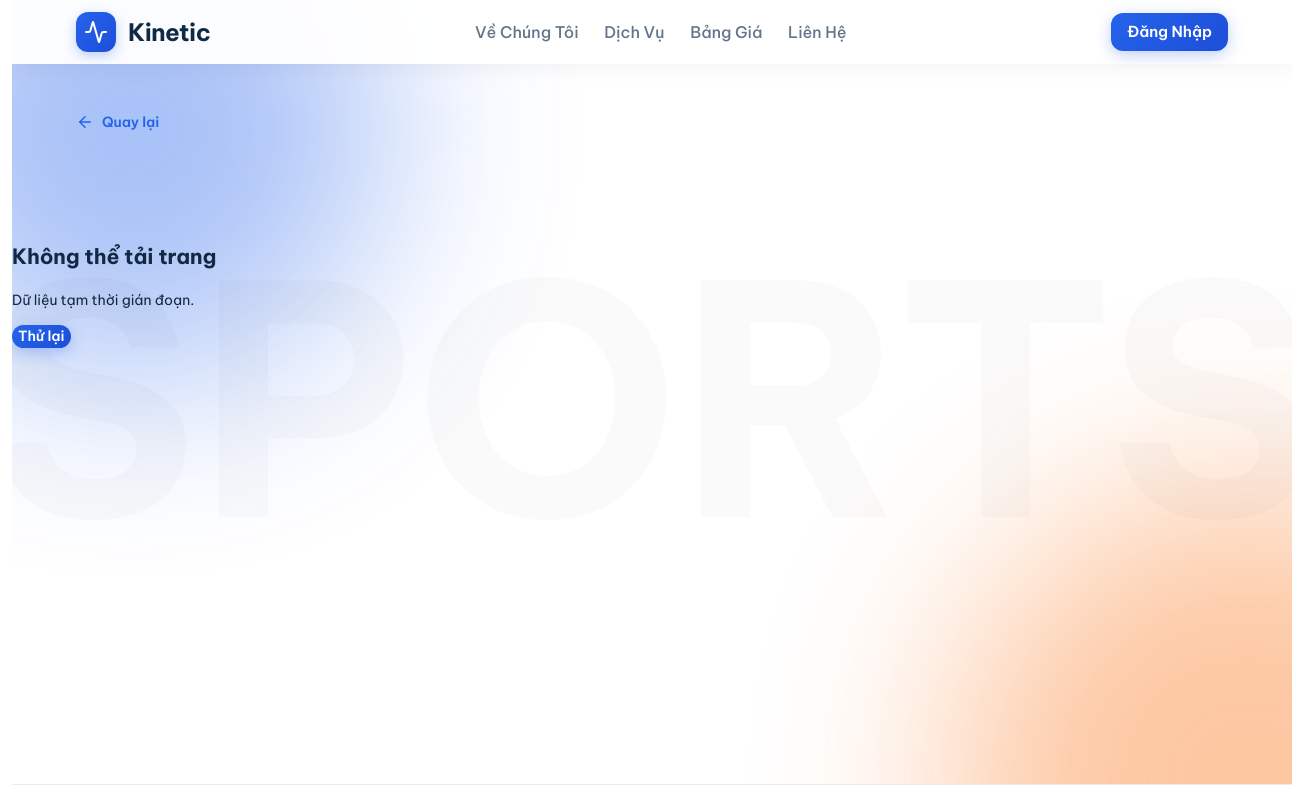
Test case: separate CMS public pages › shows a retryable error instead of 404 when the API is unavailable
Expected: the heading "Không thể tải trang" is shown, [12,243,216,270]
Click the button "Thử lại" at (41, 337), box [12,325,70,348]
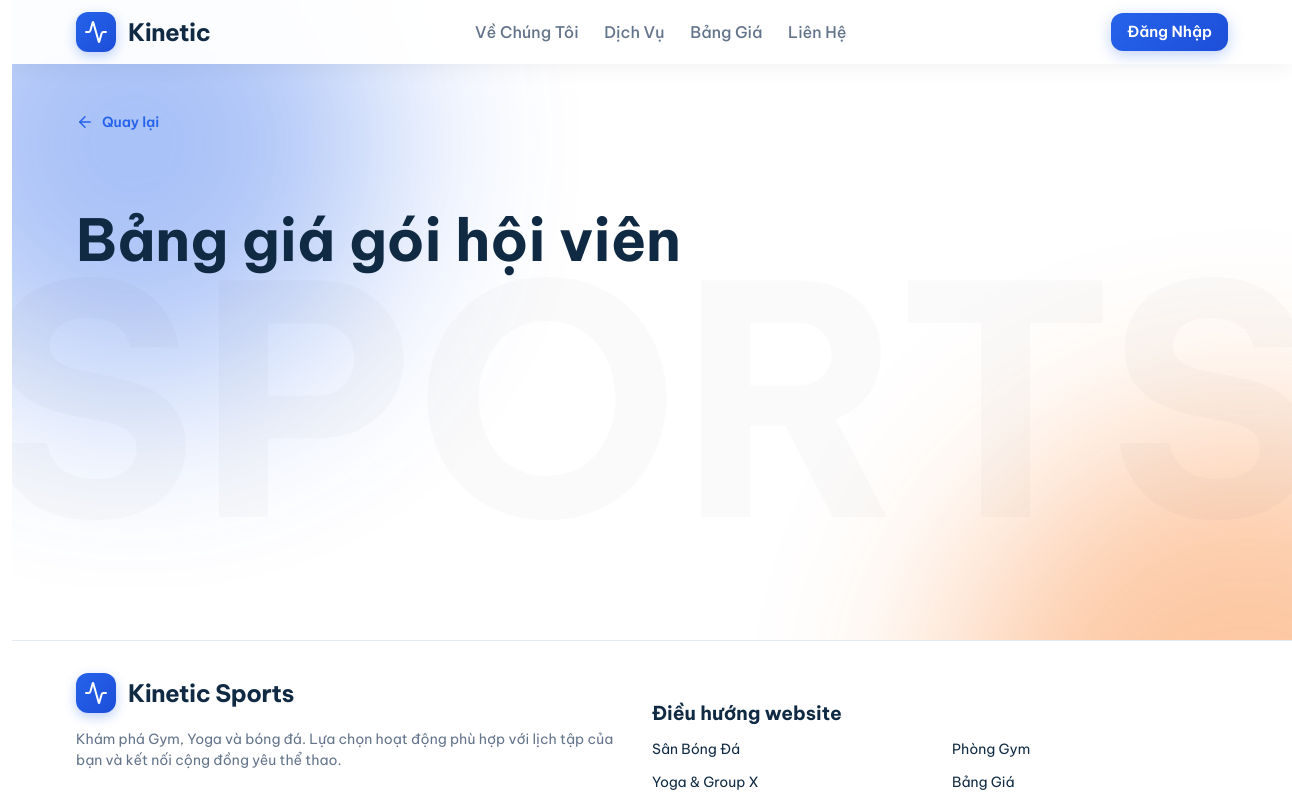
Now the heading "Bảng giá gói hội viên" is shown, box [76,203,681,276]
